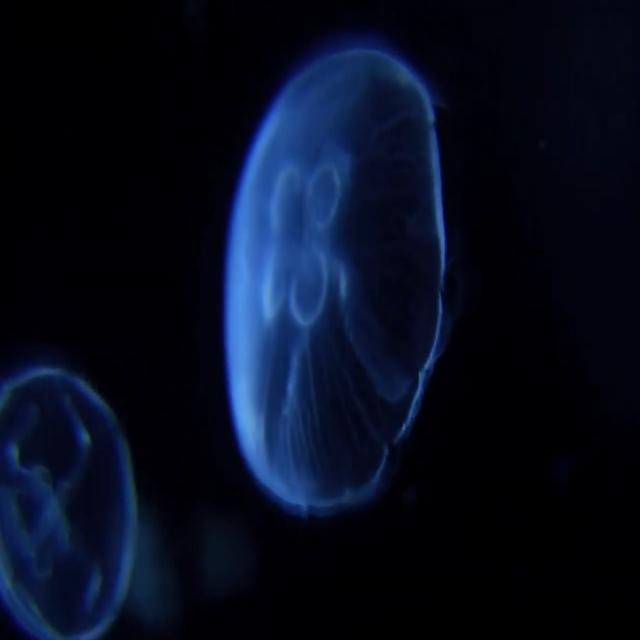Moon-jellyfish: (225, 47, 444, 513)
